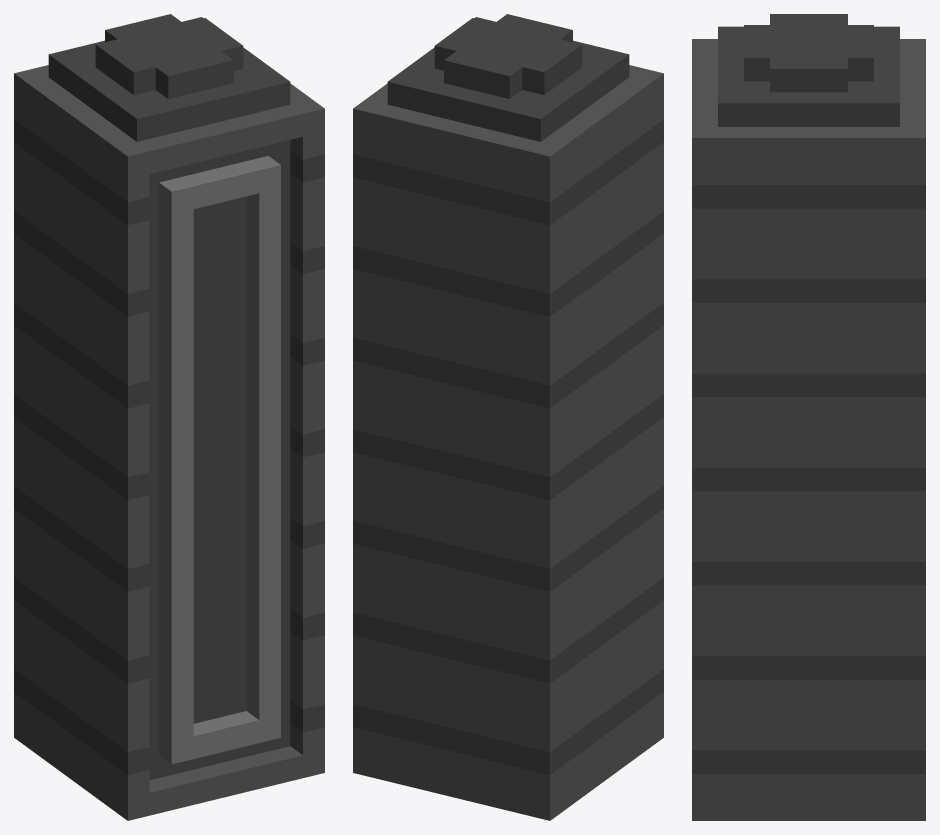
Rendered from Stenka1-37 1.obj.
The picture shows the model from 3 angles, left to right: view 1: azimuth 30°, elevation 25°; view 2: azimuth 150°, elevation 25°; view 3: azimuth 270°, elevation 25°; orthographic projection. The views are drawn at different scales.
Size of the model in its own units: 0.9 by 3.1 by 0.9.
Materials: 1 (1 with a texture image).
